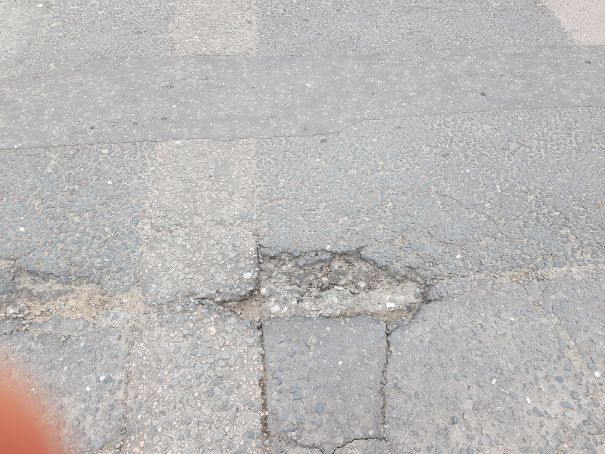pothole: (216, 242, 438, 332)
